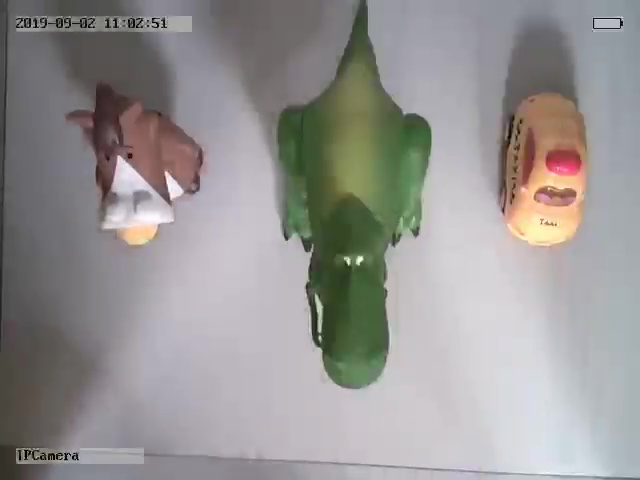horse: (66, 82, 206, 247)
rex: (273, 3, 433, 391)
